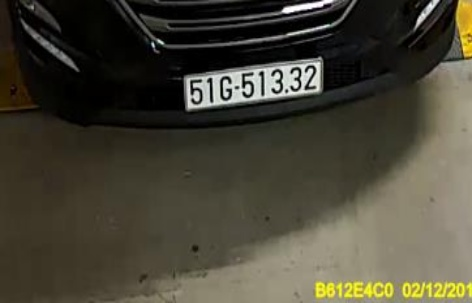plate: (179, 60, 332, 109)
